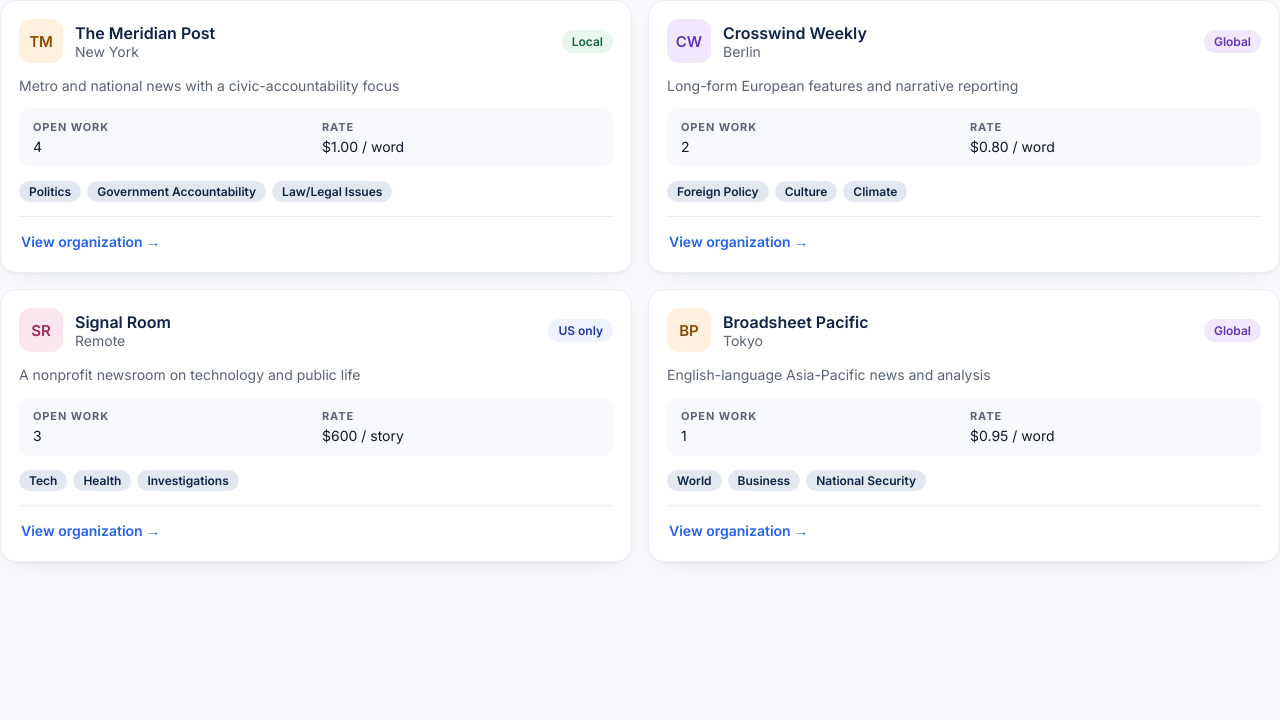
Test: OrganizationGrid › opens the organization drawer from its card
Click the button "View organization →" below "Foreign Policy": (739, 242) [667,229,810,254]
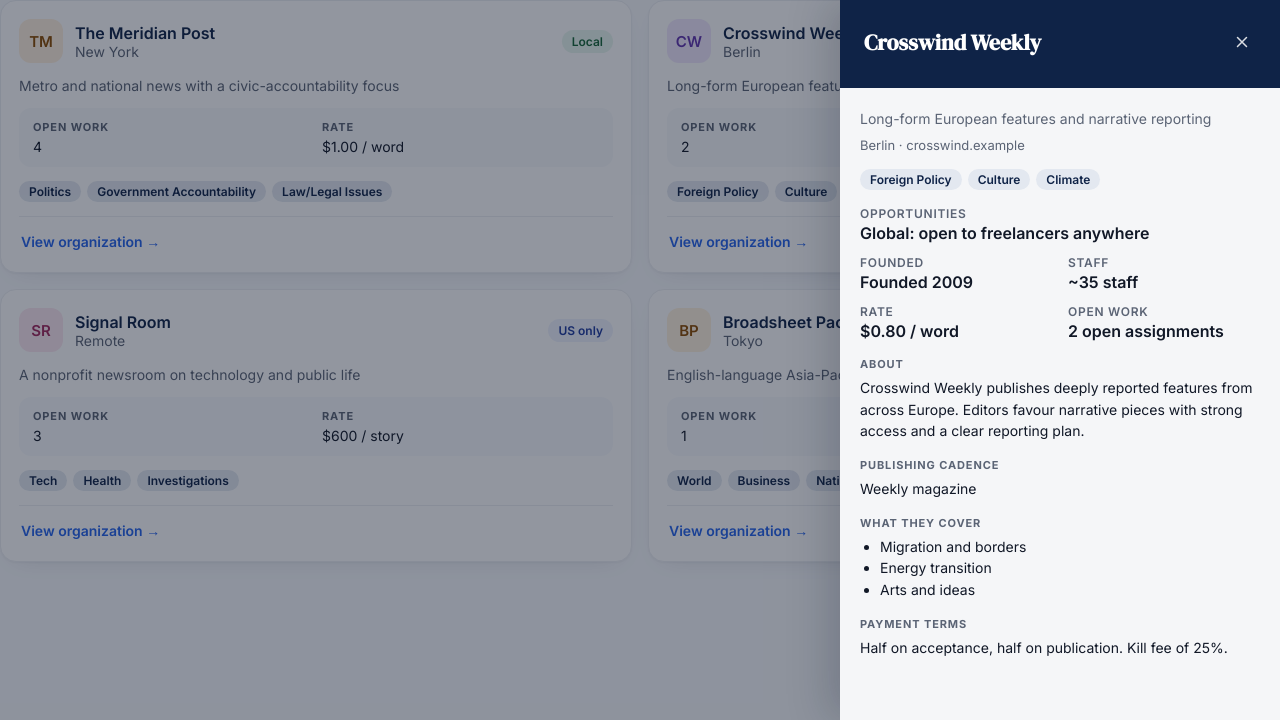
Check: the text "Crosswind Weekly publishes deeply reported features from across Europe. Editors favour narrative pieces with strong acce" is shown, box [860,379,1252,439]
Check: the text "Half on acceptance, half on publication. Kill fee of 25%." is shown, box [860,637,1260,658]
Check: the text "Global: open to freelancers anywhere" is shown, box [860,223,1149,243]
